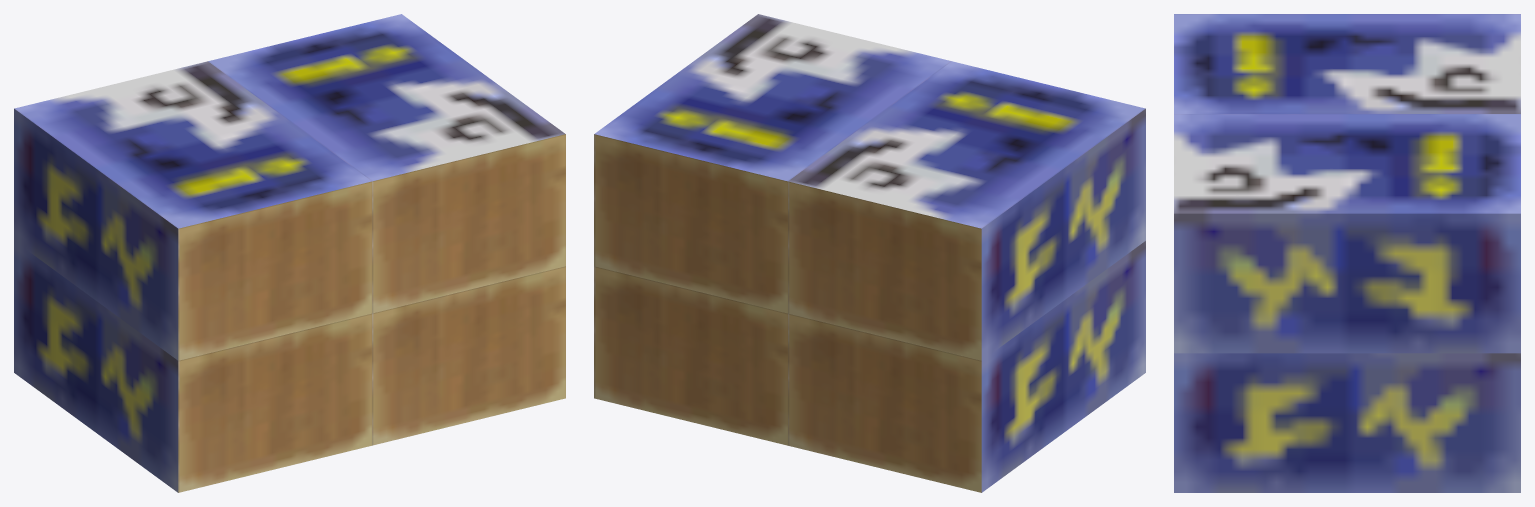
File: gunshopammoboxblueblock.obj
3 renders of one model, left to right at view 1: azimuth 30°, elevation 25°; view 2: azimuth 150°, elevation 25°; view 3: azimuth 270°, elevation 25°, orthographic. The views are drawn at different scales.
Parts seen in each view (by area): view 1: GunShopAmmoBoxBlueBlock; view 2: GunShopAmmoBoxBlueBlock; view 3: GunShopAmmoBoxBlueBlock.
Boxes of the visible parts, x1=… form: GunShopAmmoBoxBlueBlock: x1=14, y1=14, x2=565, y2=492; GunShopAmmoBoxBlueBlock: x1=594, y1=14, x2=1145, y2=492; GunShopAmmoBoxBlueBlock: x1=1174, y1=14, x2=1520, y2=492.
Size of the model in its own units: 0.503 by 0.3277 by 0.3689.
